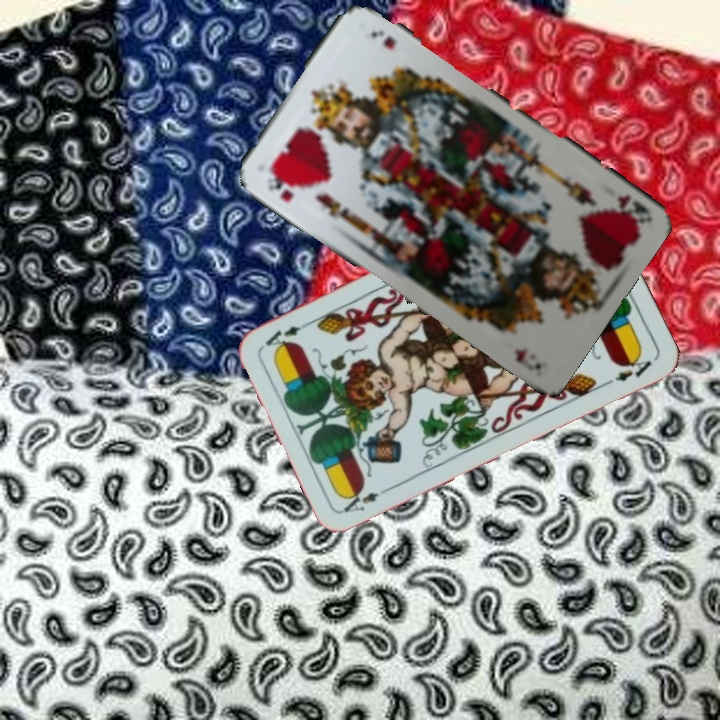EA: (339, 482, 395, 516)
HK: (612, 190, 652, 226), (263, 166, 297, 204)
